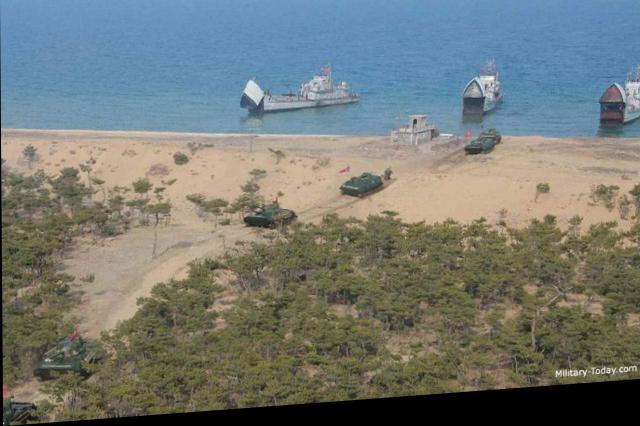tank: (27, 315, 111, 384), (331, 164, 389, 215), (244, 193, 300, 241), (461, 132, 497, 171), (2, 388, 44, 420)
